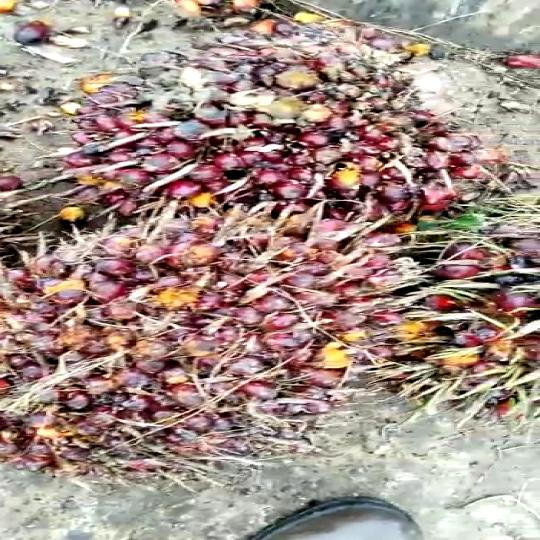masak: (0, 200, 426, 477), (50, 41, 509, 232), (390, 215, 540, 436)
